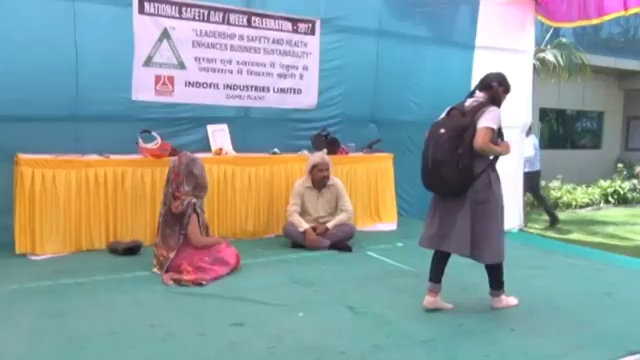helmet_off: (165, 152, 209, 199), (474, 70, 510, 105), (305, 151, 331, 186)
person: (411, 68, 518, 315), (152, 153, 241, 289), (282, 149, 356, 252), (522, 124, 562, 228)
